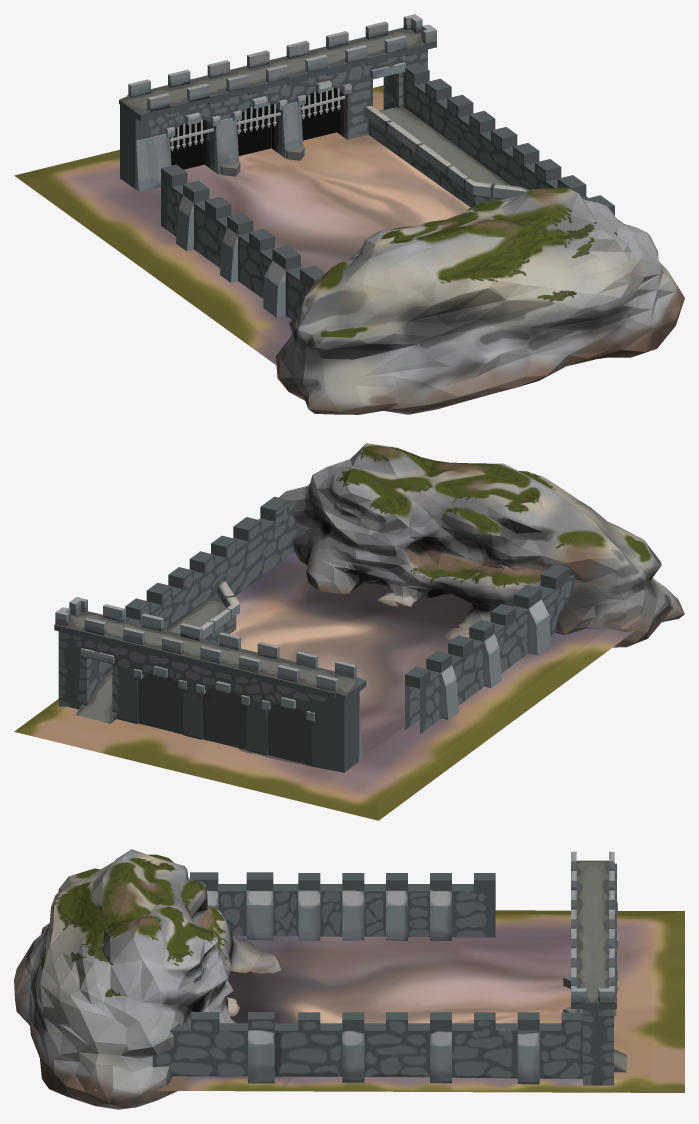
The model's file is shortbow-platform.fbx.
3 views of the same model, one above another, from view 1: azimuth 30°, elevation 25°; view 2: azimuth 150°, elevation 25°; view 3: azimuth 270°, elevation 25° (orthographic). The views are drawn at different scales.
Parts seen in each view (by area): view 1: Cube.003, Icosphere; view 2: Cube.003, Icosphere; view 3: Cube.003, Icosphere.
Part boxes in pixels (bbox=[...]): Cube.003: bbox=[14, 14, 682, 365]; Icosphere: bbox=[275, 187, 684, 414]; Cube.003: bbox=[14, 496, 635, 820]; Icosphere: bbox=[279, 443, 684, 647]; Cube.003: bbox=[94, 851, 684, 1092]; Icosphere: bbox=[14, 849, 281, 1109].
Bounding box in the file's own units: 2662 × 955 × 3935.
Materials: 4 (3 with a texture image).
